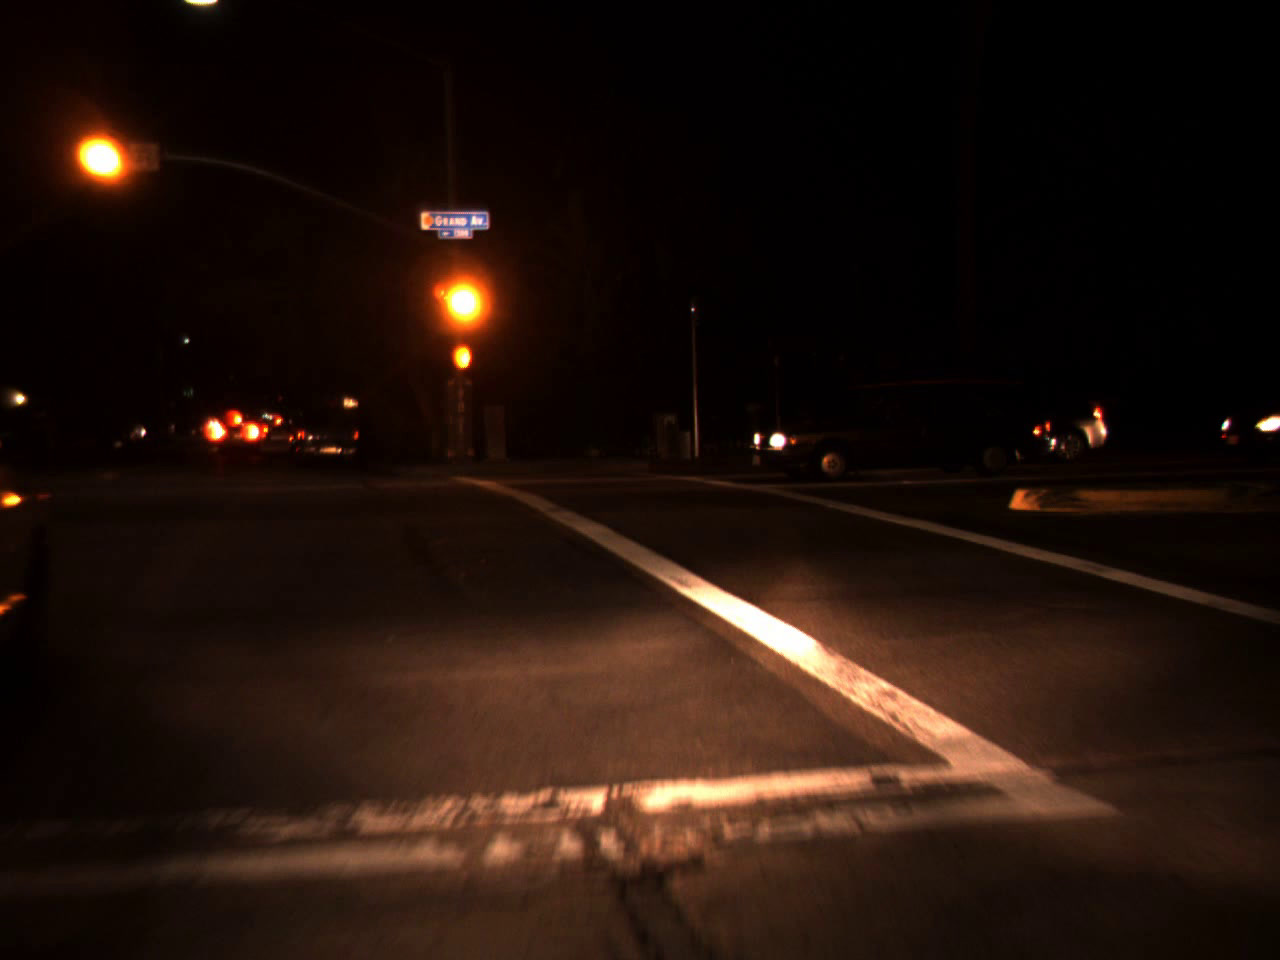warning: (443, 267, 482, 334), (84, 124, 117, 189)
